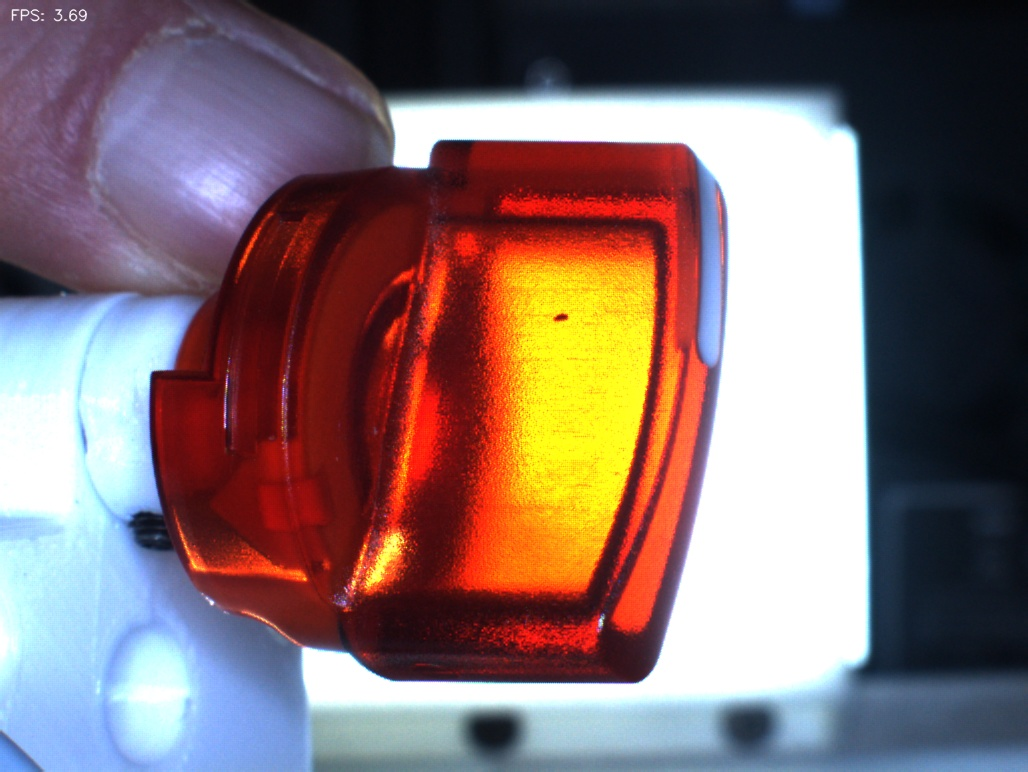PointNoir: (523, 276, 602, 353)
